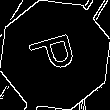P_E: (26, 30, 84, 80)
